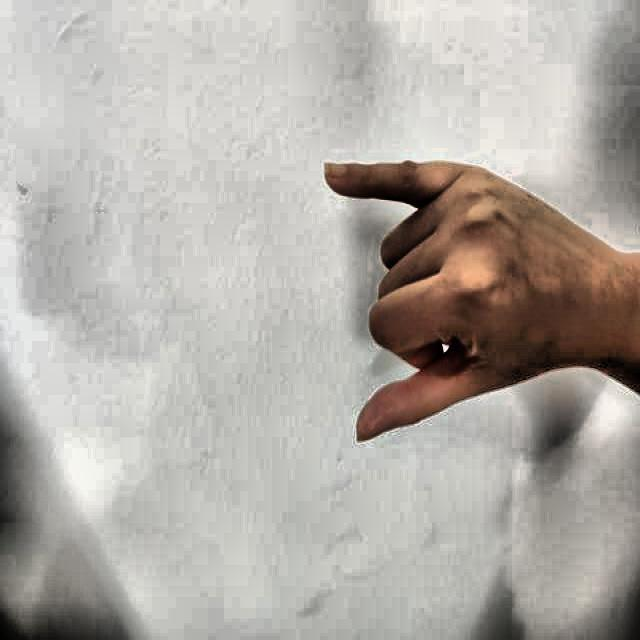Oi: (304, 96, 600, 462)
